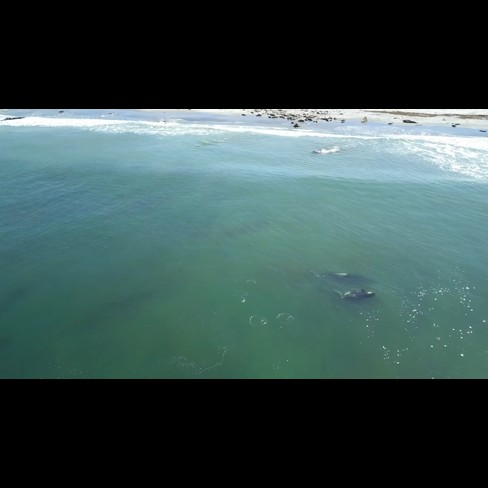orca: (323, 286, 387, 304)
